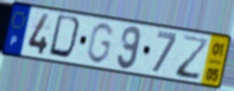4: (26, 12, 51, 57)
7: (150, 29, 180, 75)
9: (116, 24, 143, 72)
D: (47, 13, 84, 62)
G: (85, 21, 116, 66)
Z: (174, 33, 211, 82)
